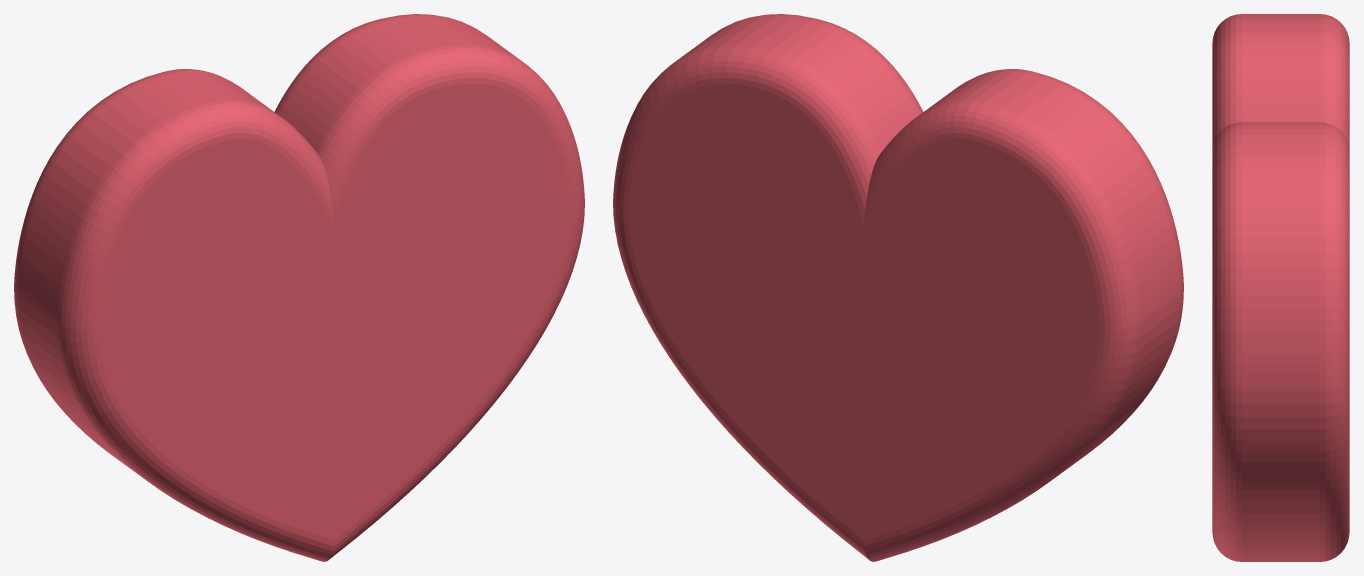
File: tim.glb
3 views of the same model, side by side, from view 1: azimuth 30°, elevation 25°; view 2: azimuth 150°, elevation 25°; view 3: azimuth 270°, elevation 25° (orthographic).
Parts seen in each view (by area): view 1: heart; view 2: heart; view 3: heart.
Part boxes in pixels (left/top/right/bottom): heart: left=14, top=14, right=584, bottom=561; heart: left=613, top=14, right=1183, bottom=561; heart: left=1212, top=14, right=1349, bottom=561.
Bounding box in the file's own units: 1.46 × 1.29 × 0.336.
